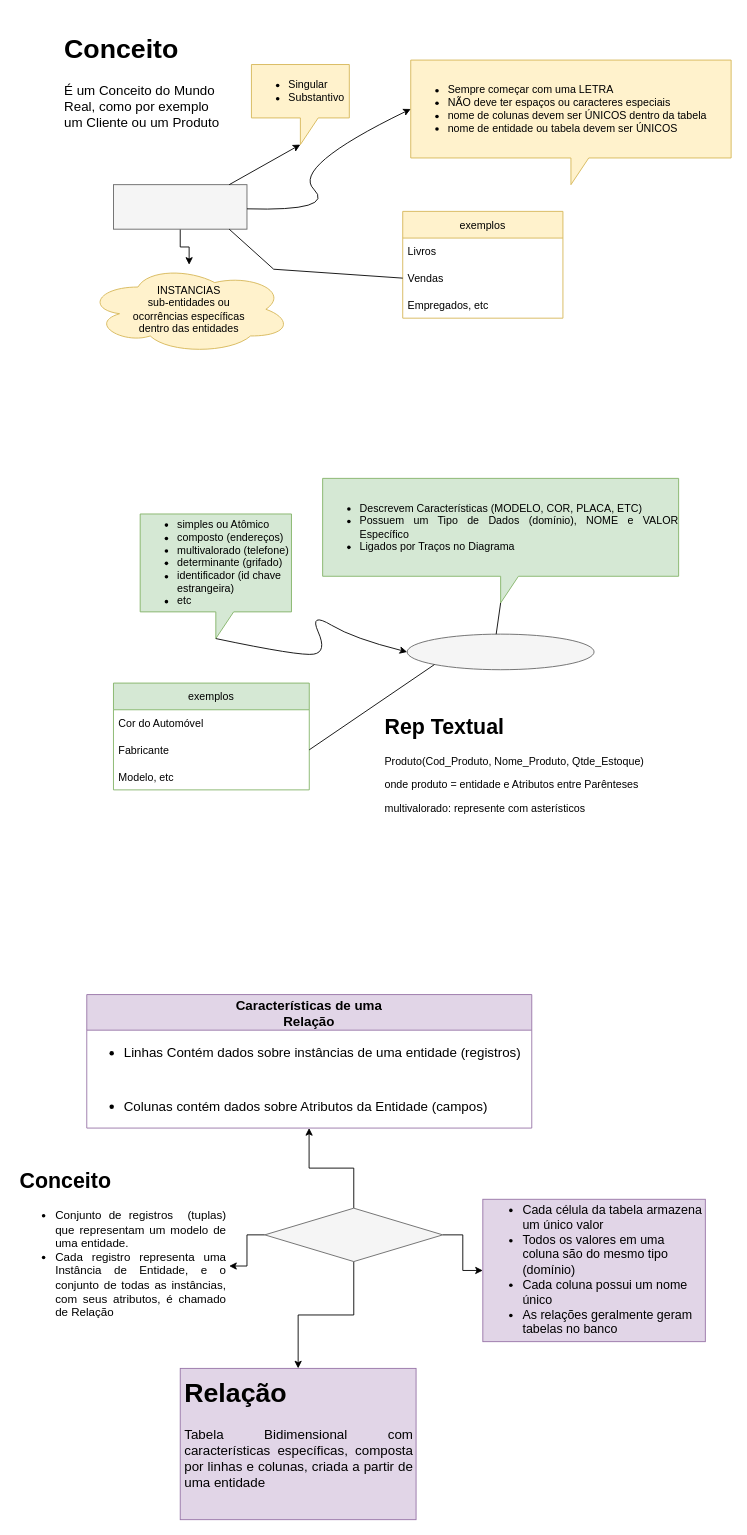
Image size: 747x1535. Some labels were removed from this diagram. The centre of each missing label's shape, as x and y in pixels:
atributo: (500,651)
entidade: (180,206)
relacionamento: (353,1234)
